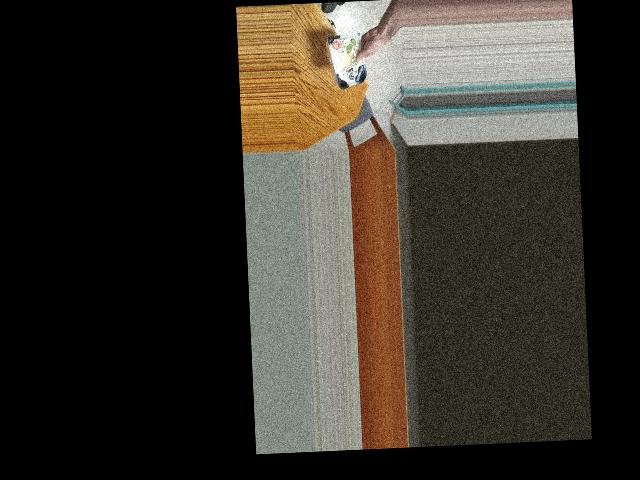cheese: (333, 28, 369, 91)
